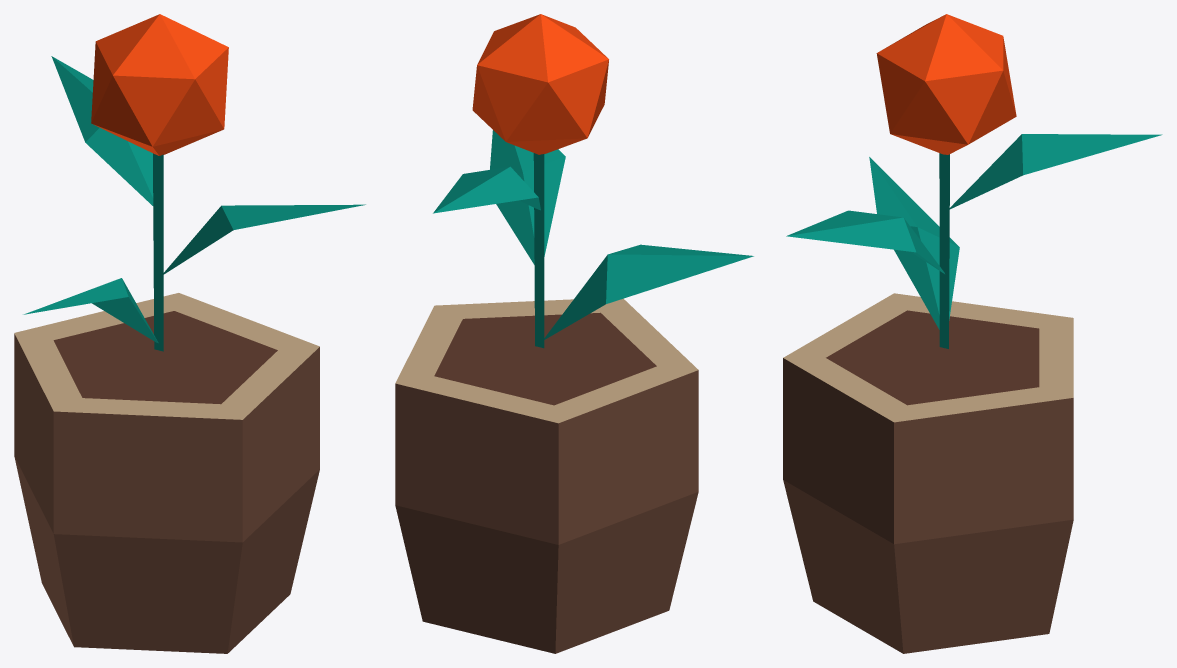
File: TB_Prop_Flowerpot_A.FBX
3 renders of one model, left to right at view 1: azimuth 30°, elevation 25°; view 2: azimuth 150°, elevation 25°; view 3: azimuth 270°, elevation 25°, orthographic.
Visible parts, largest first — view 1: TB_Prop_Flowerpot_A; view 2: TB_Prop_Flowerpot_A; view 3: TB_Prop_Flowerpot_A.
Boxes of the visible parts, box(x1,y1,x2,y2) form: TB_Prop_Flowerpot_A: box(14, 14, 365, 653); TB_Prop_Flowerpot_A: box(395, 14, 753, 653); TB_Prop_Flowerpot_A: box(783, 14, 1162, 653).
Bounding box in the file's own units: 0.5103 × 0.9287 × 0.5444.
